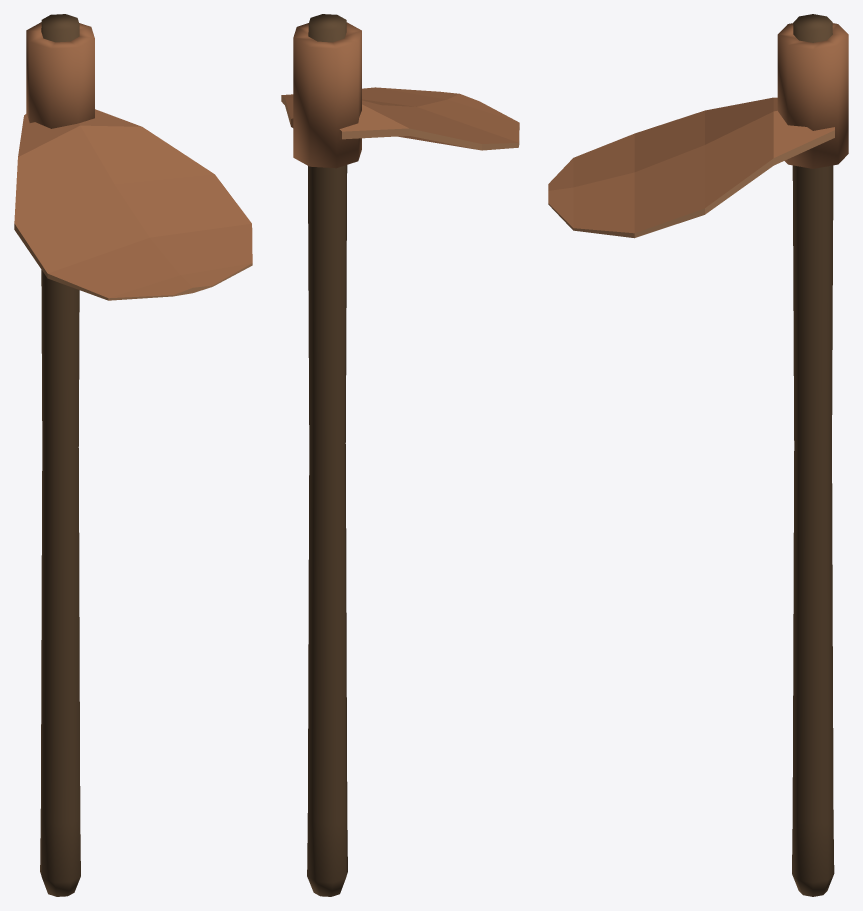
Rendered from copper_hoe_lod0.glb.
The picture shows the model from 3 angles, left to right: view 1: azimuth 30°, elevation 25°; view 2: azimuth 150°, elevation 25°; view 3: azimuth 270°, elevation 25°; orthographic projection.
Visible parts, largest first — view 1: copper_hoe_lod0; view 2: copper_hoe_lod0; view 3: copper_hoe_lod0.
Part boxes in pixels (x1,y1,x2,y2): copper_hoe_lod0: (14, 14, 252, 896); copper_hoe_lod0: (281, 14, 519, 896); copper_hoe_lod0: (548, 14, 848, 896).
Size of the model in its own units: 0.312 by 1.27 by 0.397.
